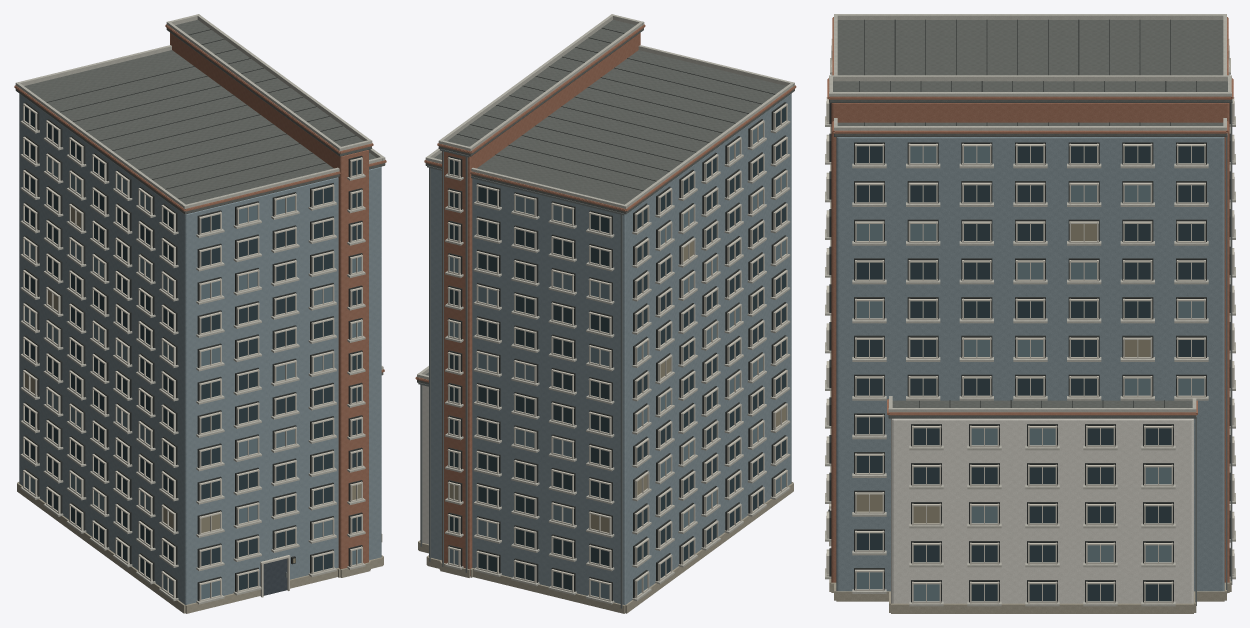
Rendered from RES_HIGH_2x3_002.glb.
The picture shows the model from 3 angles, left to right: view 1: azimuth 30°, elevation 25°; view 2: azimuth 150°, elevation 25°; view 3: azimuth 270°, elevation 25°; orthographic projection. The views are drawn at different scales.
Parts seen in each view (by area): view 1: RES_HIGH_2x3_002_Visual; view 2: RES_HIGH_2x3_002_Visual; view 3: RES_HIGH_2x3_002_Visual.
Boxes of the visible parts, x1,y1,x2,y2 form: RES_HIGH_2x3_002_Visual: (14, 14, 386, 613); RES_HIGH_2x3_002_Visual: (415, 14, 796, 613); RES_HIGH_2x3_002_Visual: (825, 14, 1235, 613).
Size of what is drawn, in the model's own units: 3.8 by 6.84 by 5.1.
13 materials, 7 textured.
